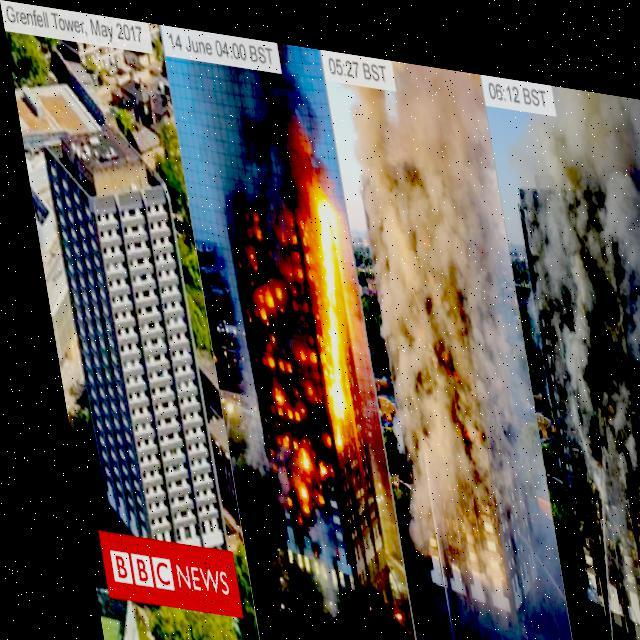Fire: (218, 156, 368, 526)
